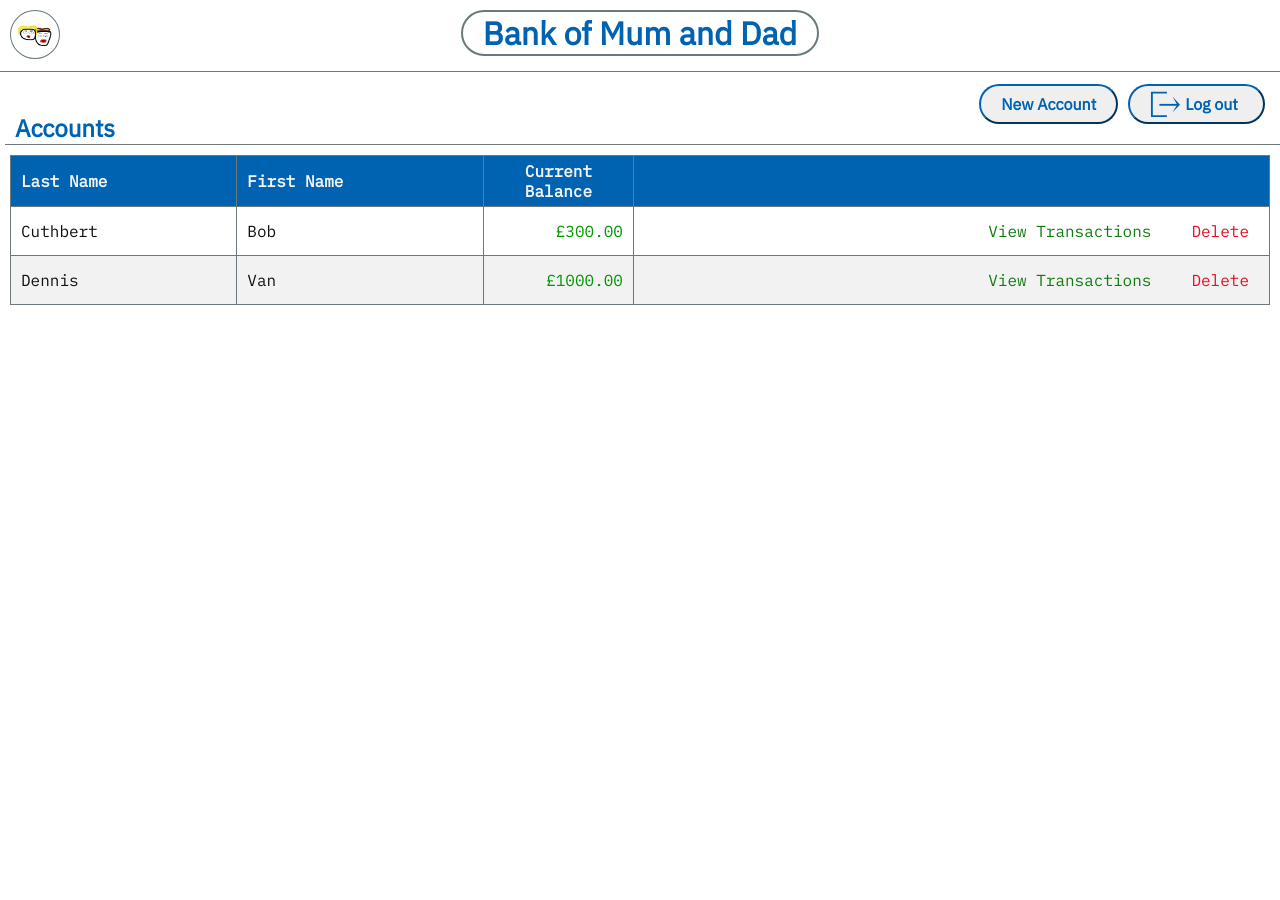
Test case: accounts page › new account form › displays submit button, which is disabled
The width and height of the screenshot is (1280, 900).
Click the button "New Account".
click(1049, 104)  # box [979,84,1118,124]
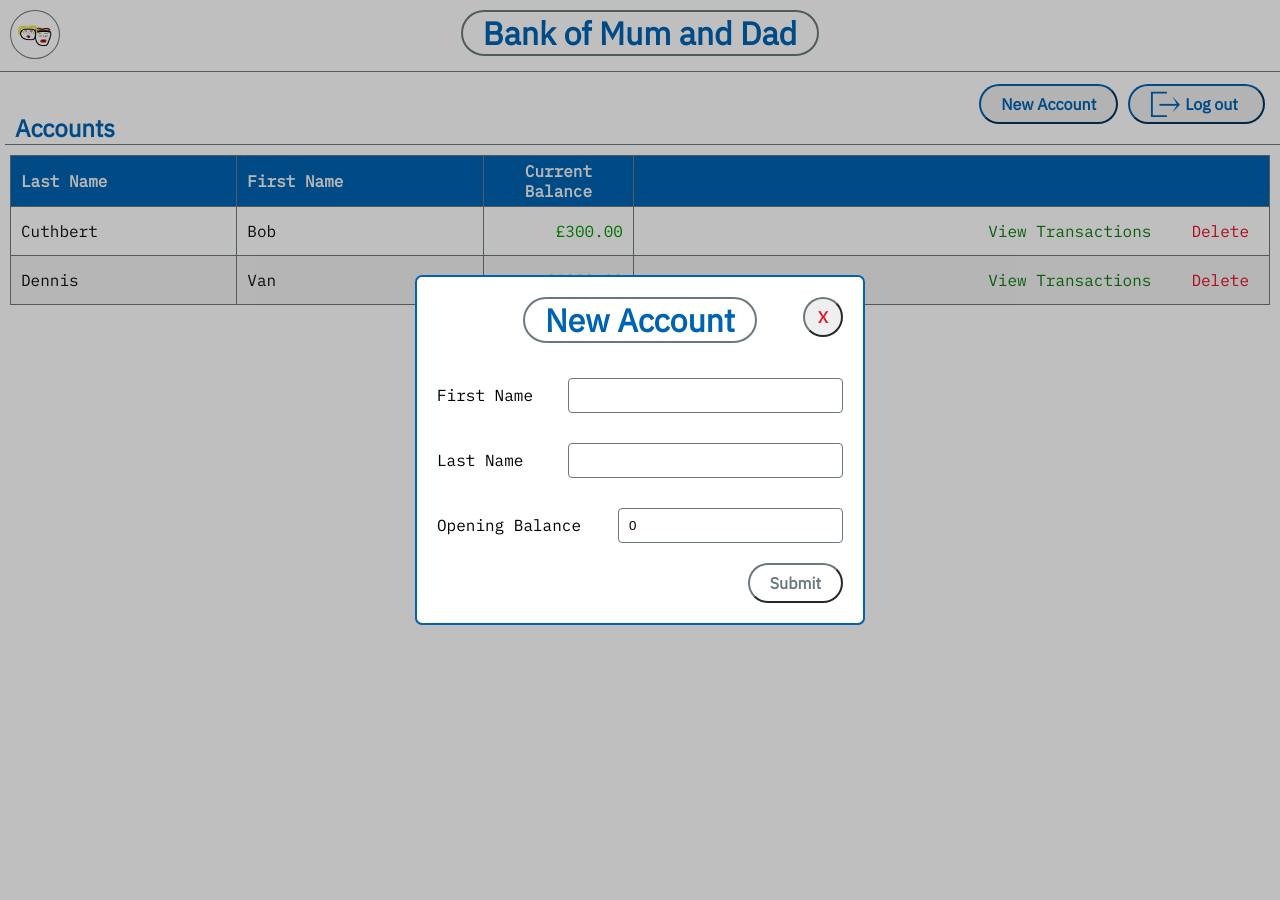
Expected: the button "Submit" is disabled, [748,563,843,603]
